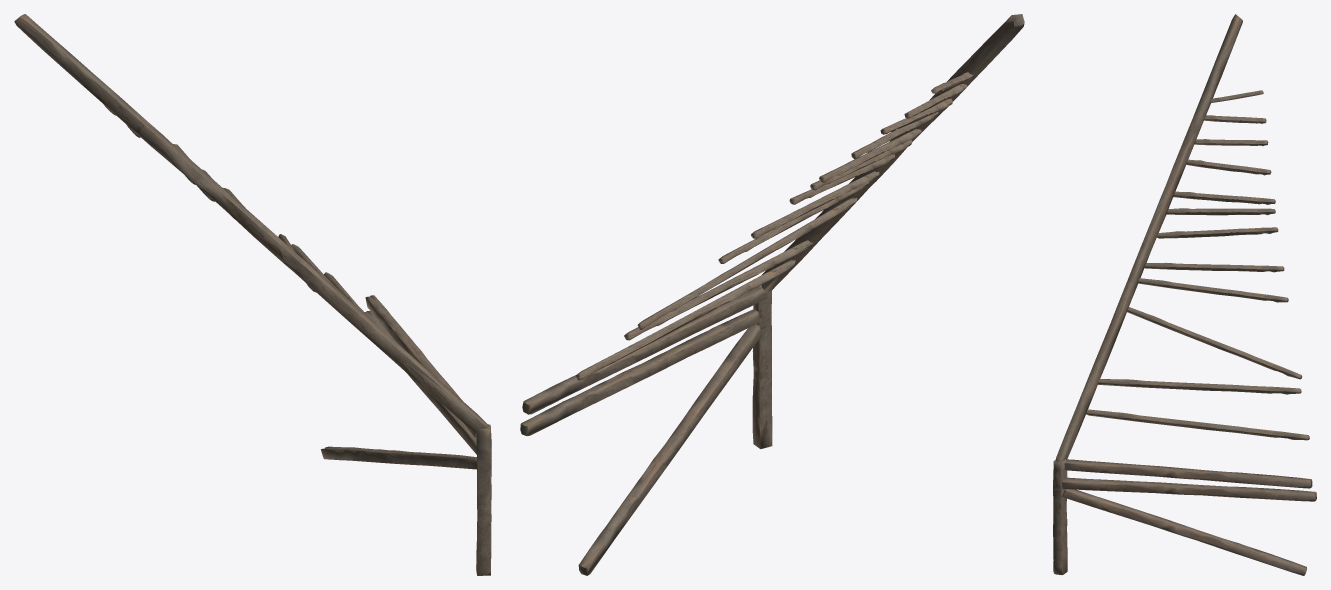
File: Tent_P_WoodenStand09.FBX
3 renders of one model, left to right at view 1: azimuth 30°, elevation 25°; view 2: azimuth 150°, elevation 25°; view 3: azimuth 270°, elevation 25°, orthographic. The views are drawn at different scales.
Parts seen in each view (by area): view 1: Tent_P_WoodenStand09; view 2: Tent_P_WoodenStand09; view 3: Tent_P_WoodenStand09.
Boxes of the visible parts, box(x1,y1,x2,y2) form: Tent_P_WoodenStand09: box(14, 14, 491, 575); Tent_P_WoodenStand09: box(520, 14, 1024, 575); Tent_P_WoodenStand09: box(1053, 14, 1316, 575).
Size of the model in its own units: 1319 by 1733 by 965.
